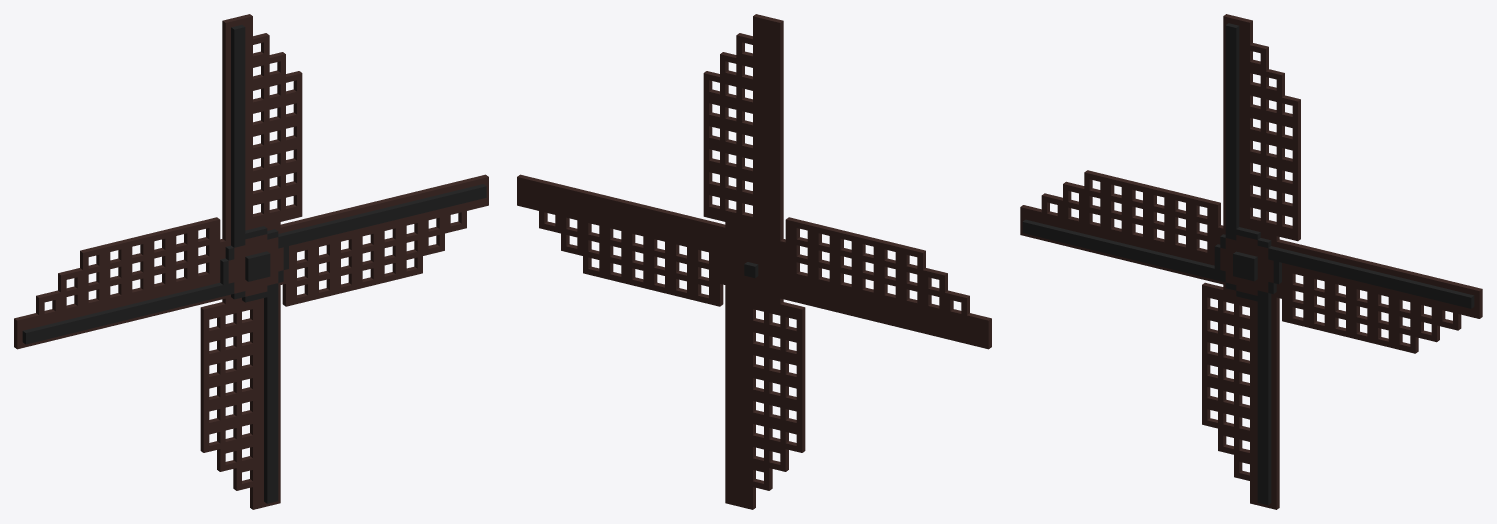
File: Second House-2-0-Blades.obj
The picture shows the model from 3 angles, left to right: view 1: azimuth 30°, elevation 25°; view 2: azimuth 150°, elevation 25°; view 3: azimuth 330°, elevation 25°; orthographic projection. The views are drawn at different scales.
Visible parts, largest first — view 1: Blades; view 2: Blades; view 3: Blades.
Boxes of the visible parts, x1=… form: Blades: x1=14, y1=14, x2=488, y2=509; Blades: x1=517, y1=14, x2=991, y2=509; Blades: x1=1020, y1=14, x2=1482, y2=509.
Bounding box in the file's own units: 8.6 × 8.6 × 0.4.
Materials: 1 (1 with a texture image).
